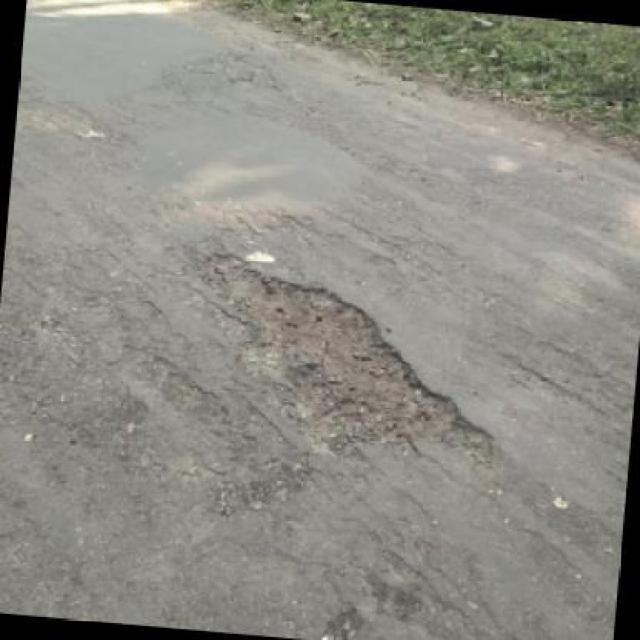pothole1: (177, 246, 517, 480)
